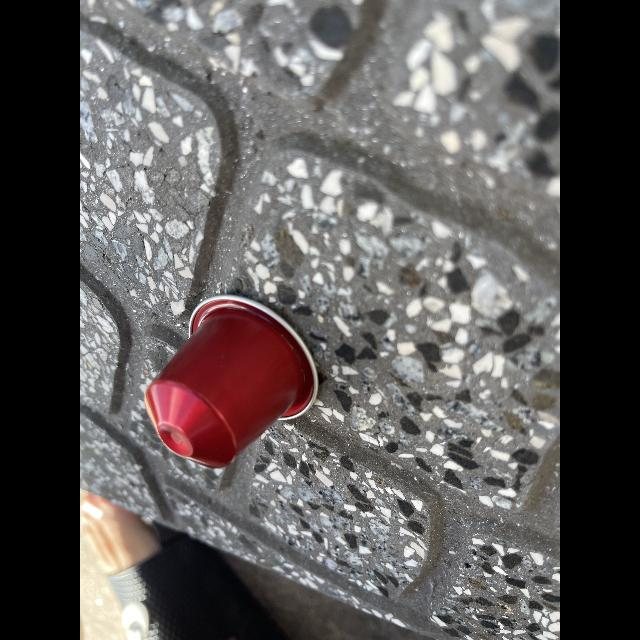intact_capsule: (136, 278, 334, 482)
